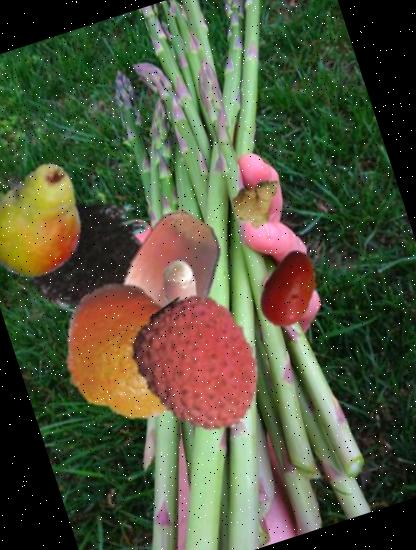Ginger: (224, 166, 294, 236)
Hazelnut: (78, 194, 260, 375), (144, 251, 217, 324)
Lychee: (112, 279, 286, 453)
Mandarine: (36, 262, 219, 444)
Pear: (0, 146, 110, 293)
Potato: (239, 238, 341, 340)
Rambutan: (5, 172, 178, 345)
